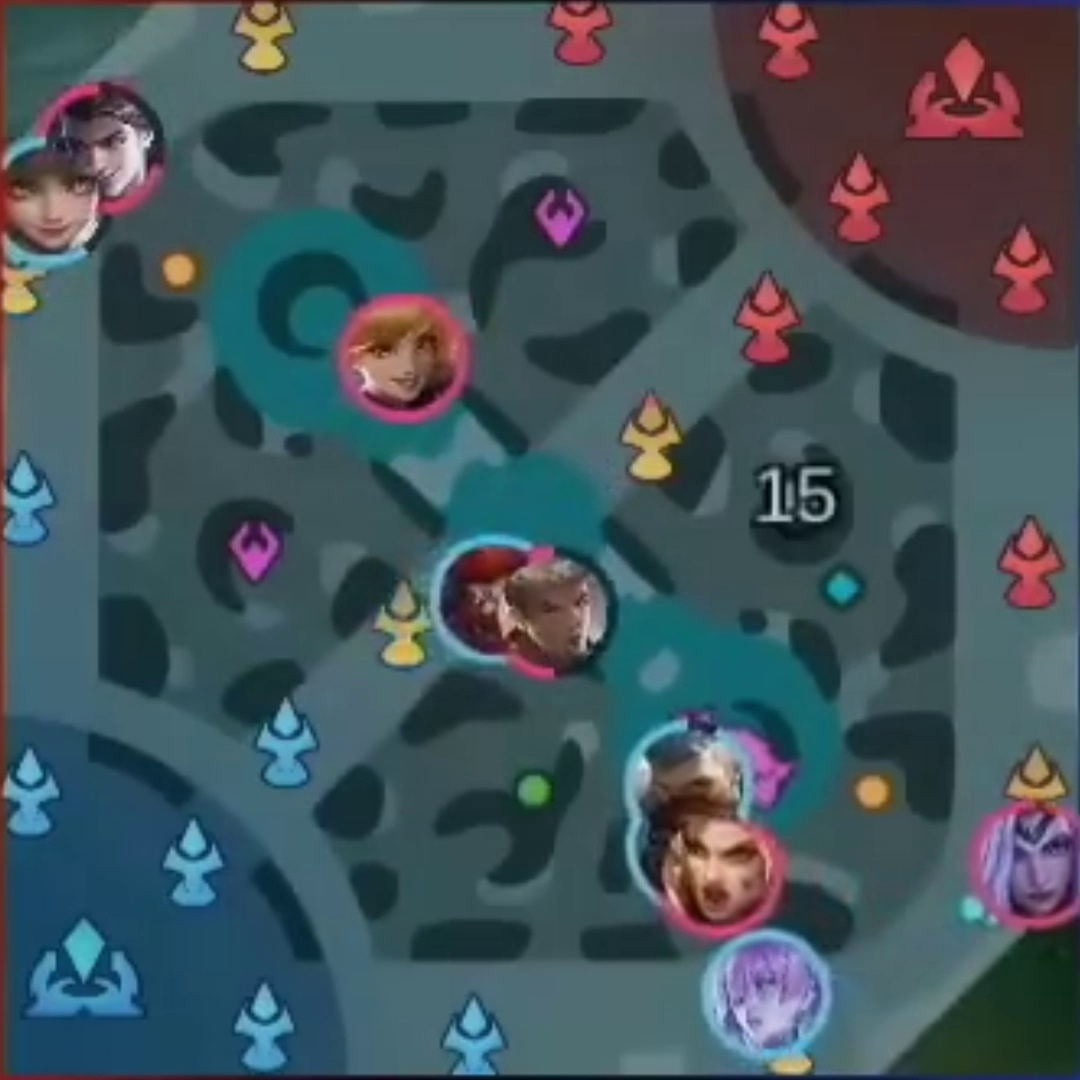Chou: (512, 572, 600, 656)
Claude: (65, 109, 151, 189)
Fanny: (354, 310, 452, 404)
Fredrinn: (636, 744, 735, 804)
Masha: (678, 834, 762, 920)
Minotaur: (446, 559, 509, 639)
Novaria: (711, 949, 809, 1039)
Valentina: (986, 817, 1078, 915)
Wanwan: (8, 161, 97, 250)
